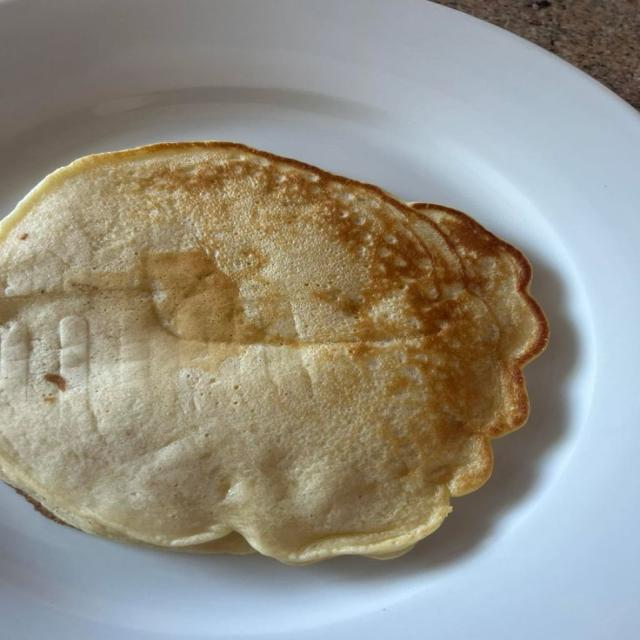pancake: (0, 143, 546, 563)
